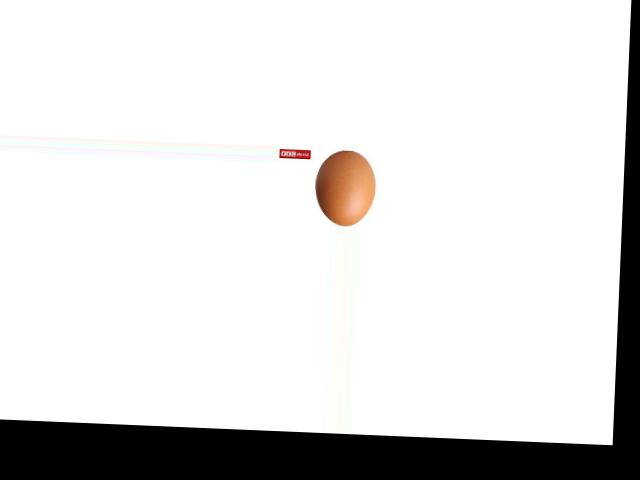egg: (314, 149, 377, 226)
